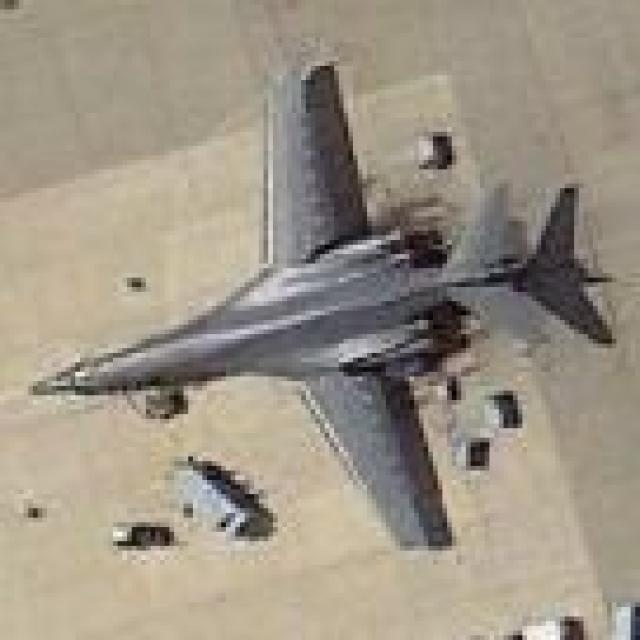B-1_TopDown: (24, 52, 616, 550)
